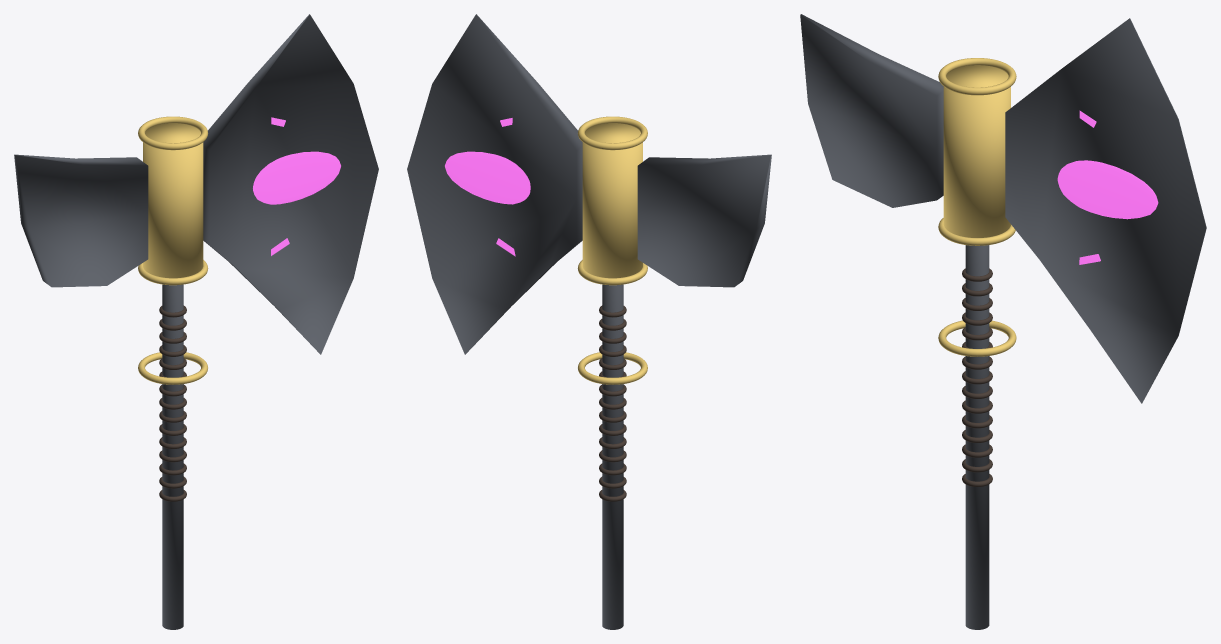
The model's file is AXE.glb.
3 renders of one model, left to right at view 1: azimuth 30°, elevation 25°; view 2: azimuth 150°, elevation 25°; view 3: azimuth 330°, elevation 25°, orthographic. The views are drawn at different scales.
Visible parts, largest first — view 1: Axe_Front_Blade, Axe_Rear_Poll, Axe_Socket, Axe_Handle, Blade_Rune_Eye_-1, Gold_Trim_Ring_1.4, Gold_Trim_Ring_-0.65, Gold_Trim_Ring_0.22; view 2: Axe_Front_Blade, Axe_Rear_Poll, Axe_Socket, Axe_Handle, Blade_Rune_Eye_1, Gold_Trim_Ring_1.4, Gold_Trim_Ring_-0.65, Gold_Trim_Ring_0.22; view 3: Axe_Front_Blade, Axe_Rear_Poll, Axe_Socket, Axe_Handle, Blade_Rune_Eye_-1, Gold_Trim_Ring_1.4, Gold_Trim_Ring_-0.65, Gold_Trim_Ring_0.22.
Part boxes in pixels (x1=…): Axe_Front_Blade: x1=203, y1=14, x2=378, y2=354; Axe_Rear_Poll: x1=14, y1=154, x2=148, y2=287; Axe_Socket: x1=143, y1=123, x2=203, y2=278; Axe_Handle: x1=162, y1=284, x2=183, y2=629; Blade_Rune_Eye_-1: x1=253, y1=151, x2=340, y2=204; Gold_Trim_Ring_1.4: x1=138, y1=116, x2=208, y2=150; Gold_Trim_Ring_-0.65: x1=138, y1=352, x2=207, y2=384; Gold_Trim_Ring_0.22: x1=138, y1=260, x2=208, y2=285; Axe_Front_Blade: x1=407, y1=14, x2=582, y2=354; Axe_Rear_Poll: x1=637, y1=154, x2=771, y2=287; Axe_Socket: x1=582, y1=123, x2=642, y2=278; Axe_Handle: x1=602, y1=284, x2=623, y2=629; Blade_Rune_Eye_1: x1=445, y1=151, x2=530, y2=204; Gold_Trim_Ring_1.4: x1=577, y1=116, x2=647, y2=150; Gold_Trim_Ring_-0.65: x1=578, y1=352, x2=647, y2=384; Gold_Trim_Ring_0.22: x1=577, y1=260, x2=647, y2=285; Axe_Front_Blade: x1=1005, y1=18, x2=1206, y2=403; Axe_Rear_Poll: x1=800, y1=14, x2=943, y2=207; Axe_Socket: x1=943, y1=65, x2=1010, y2=237; Axe_Handle: x1=965, y1=245, x2=989, y2=629; Blade_Rune_Eye_-1: x1=1057, y1=160, x2=1158, y2=219; Gold_Trim_Ring_1.4: x1=938, y1=58, x2=1016, y2=95; Gold_Trim_Ring_-0.65: x1=938, y1=320, x2=1016, y2=356; Gold_Trim_Ring_0.22: x1=938, y1=218, x2=1015, y2=245.
Bounding box in the file's own units: 3.33 × 5.05 × 0.556.
